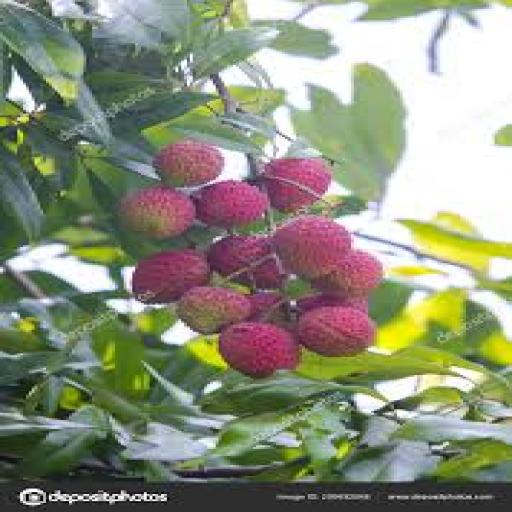lychee: (274, 217, 350, 279), (219, 323, 299, 376), (133, 249, 209, 304), (118, 186, 195, 239), (208, 235, 284, 288), (297, 307, 373, 356), (262, 159, 330, 212), (193, 181, 267, 228), (179, 287, 253, 333), (311, 251, 382, 297), (156, 141, 224, 187), (297, 294, 368, 313), (248, 293, 284, 324)
